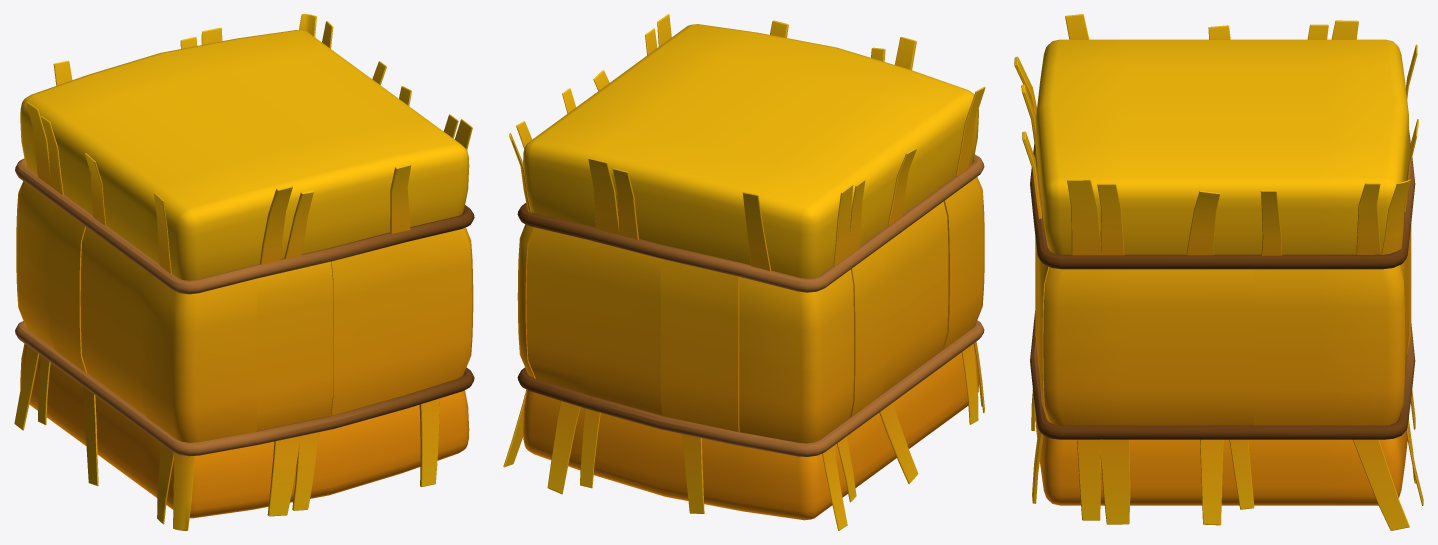
The model's file is Eno V1.fbx.
3 views of the same model, side by side, from view 1: azimuth 30°, elevation 25°; view 2: azimuth 150°, elevation 25°; view 3: azimuth 270°, elevation 25° (orthographic). The views are drawn at different scales.
Visible parts, largest first — view 1: Cube.001; view 2: Cube.001; view 3: Cube.001.
Part boxes in pixels (x1,y1,x2,y2): Cube.001: (14,14,474,530); Cube.001: (503,14,985,530); Cube.001: (1014,14,1423,530).
Bounding box in the file's own units: 1.08 × 1.13 × 1.11.
